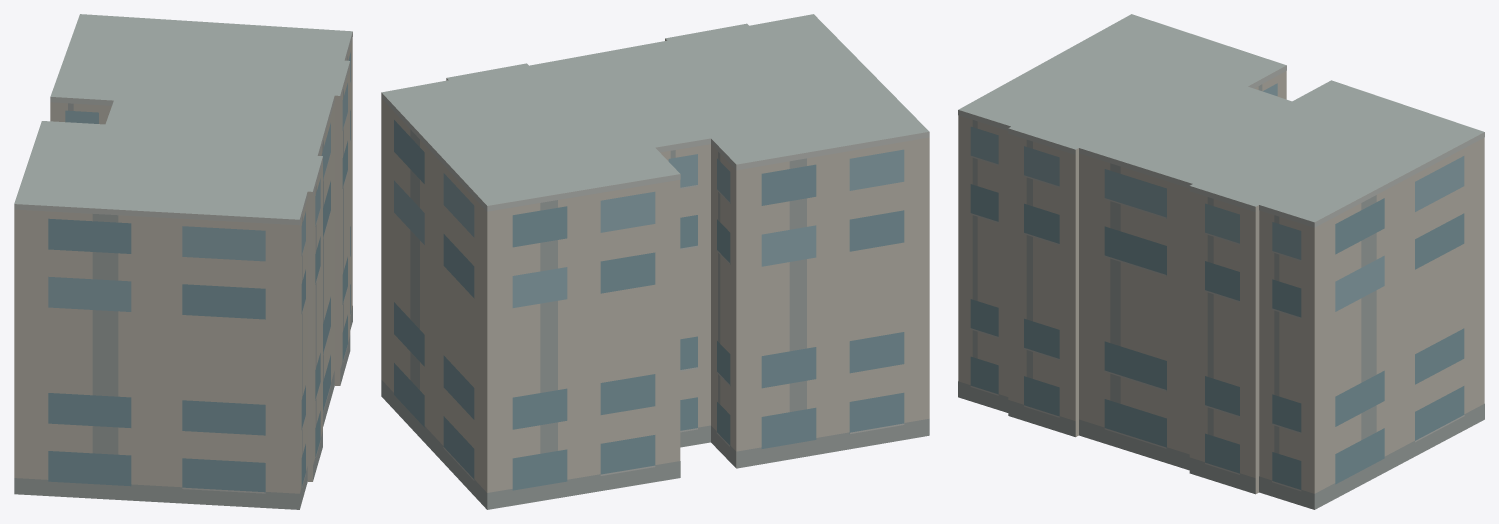
Rendered from survey-upis-32889317.glb.
3 views of the same model, side by side, from view 1: azimuth 30°, elevation 25°; view 2: azimuth 150°, elevation 25°; view 3: azimuth 270°, elevation 25° (orthographic). The views are drawn at different scales.
Visible parts, largest first — view 1: survey-upis-32889317.tmp; view 2: survey-upis-32889317.tmp; view 3: survey-upis-32889317.tmp.
Boxes of the visible parts, left/top/right/bottom form: survey-upis-32889317.tmp: left=14, top=14, right=352, bottom=509; survey-upis-32889317.tmp: left=381, top=14, right=929, bottom=509; survey-upis-32889317.tmp: left=958, top=14, right=1484, bottom=509.
Size of the model in its own units: 20.06 by 12.9 by 21.42.
